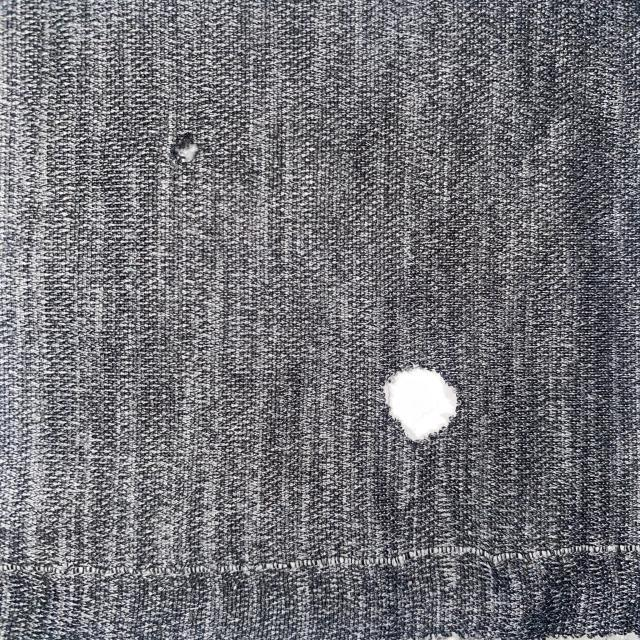Hole: (375, 361, 465, 445)
Knot: (169, 133, 204, 165)
Line: (0, 541, 639, 575)
